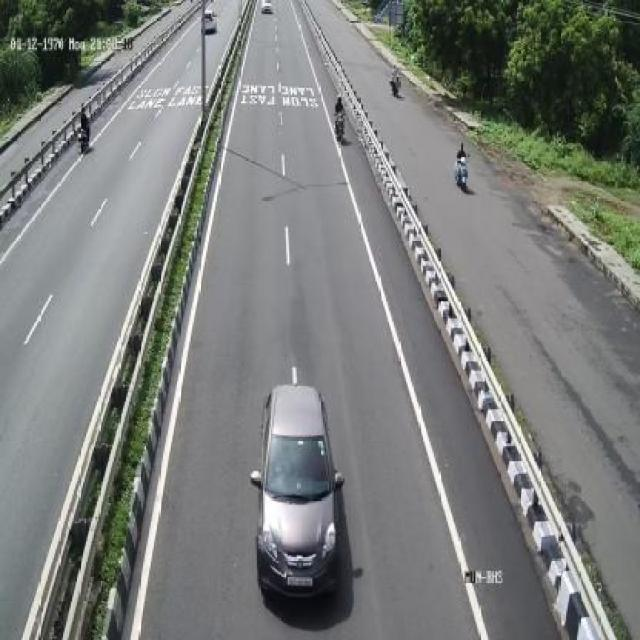car: (257, 376, 345, 606)
